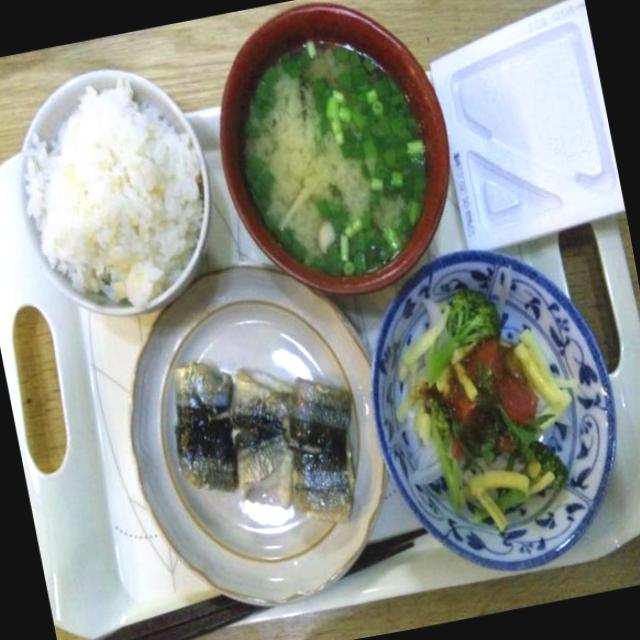Rice: (0, 44, 237, 347)
